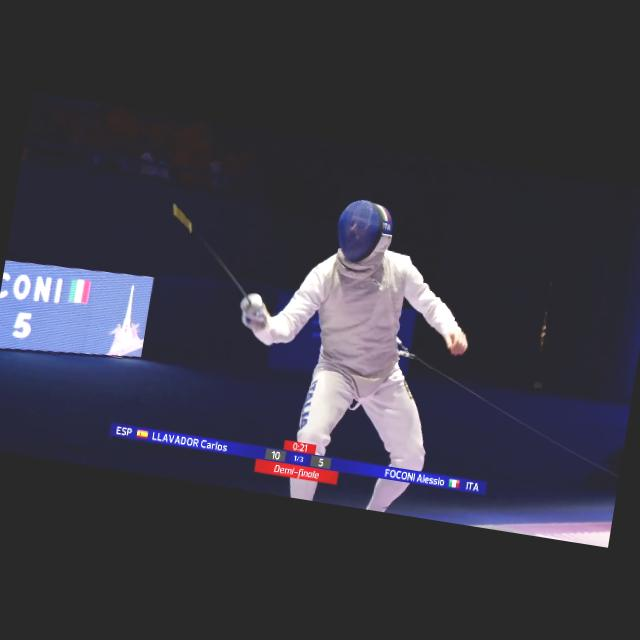blade: (154, 202, 280, 320)
